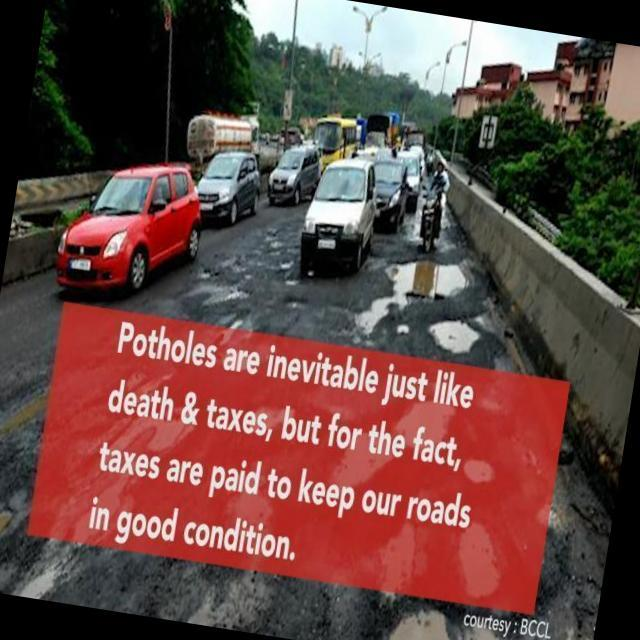Burst: (353, 258, 483, 352), (0, 365, 97, 446), (215, 310, 250, 352), (214, 255, 248, 281)
